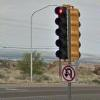Traffic light: (48, 0, 85, 71)
